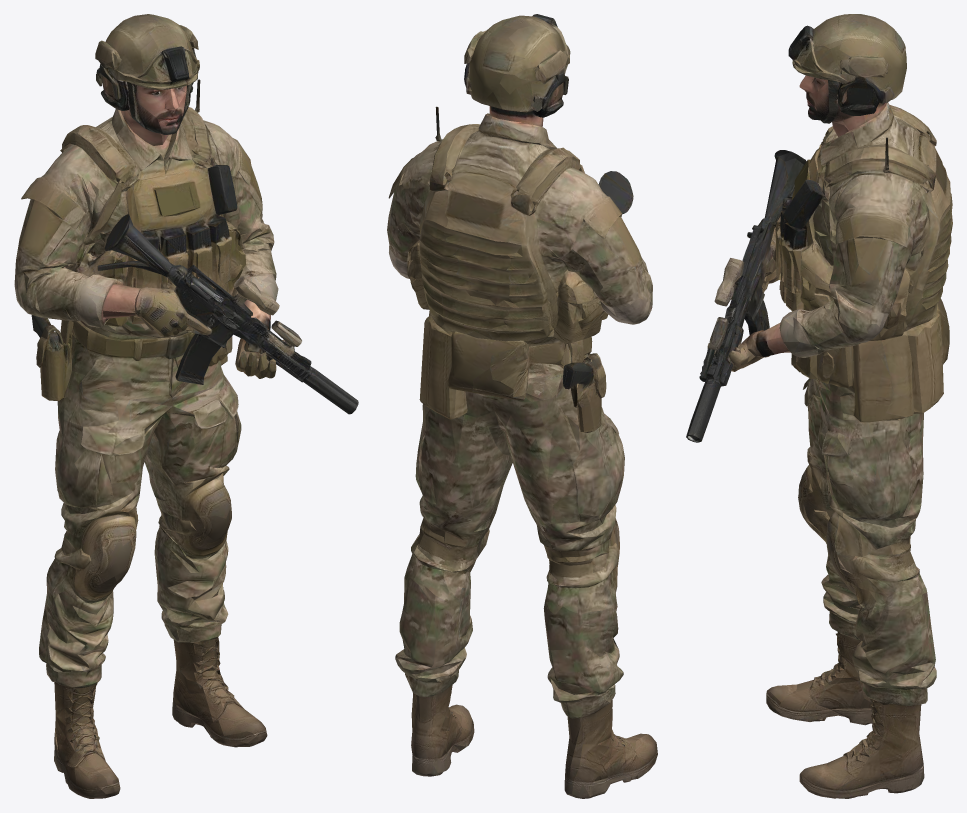
Rendered from soldier_hf.glb.
The picture shows the model from 3 angles, left to right: view 1: azimuth 30°, elevation 25°; view 2: azimuth 150°, elevation 25°; view 3: azimuth 270°, elevation 25°; orthographic projection.
Visible parts, largest first — view 1: upper_mesh, shinL_mesh, shinR_mesh, legR_mesh, legL_mesh; view 2: upper_mesh, shinR_mesh, legR_mesh, shinL_mesh, legL_mesh; view 3: upper_mesh, shinL_mesh, legL_mesh, shinR_mesh, legR_mesh.
Boxes of the visible parts, box(x1,y1,x2,y2) form: upper_mesh: box(14, 14, 358, 452); shinL_mesh: box(154, 516, 267, 747); shinR_mesh: box(39, 558, 126, 798); legR_mesh: box(54, 411, 162, 584); legL_mesh: box(144, 392, 241, 541); upper_mesh: box(387, 14, 652, 482); shinR_mesh: box(543, 568, 657, 798); legR_mesh: box(496, 422, 624, 588); shinL_mesh: box(395, 554, 476, 776); legL_mesh: box(411, 407, 512, 571); upper_mesh: box(686, 14, 952, 457); shinL_mesh: box(799, 573, 936, 798); legL_mesh: box(818, 419, 923, 595); shinR_mesh: box(766, 518, 873, 725); legR_mesh: box(798, 379, 833, 527).
Bounding box in the file's own units: 0.6783 × 1.84 × 0.6052.
1 material, 1 textured.
